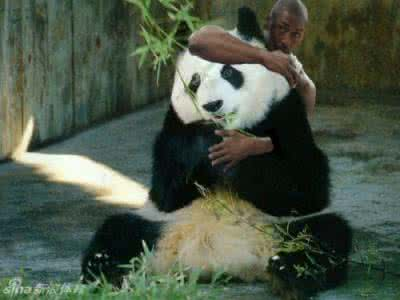panda: (79, 12, 353, 300)
